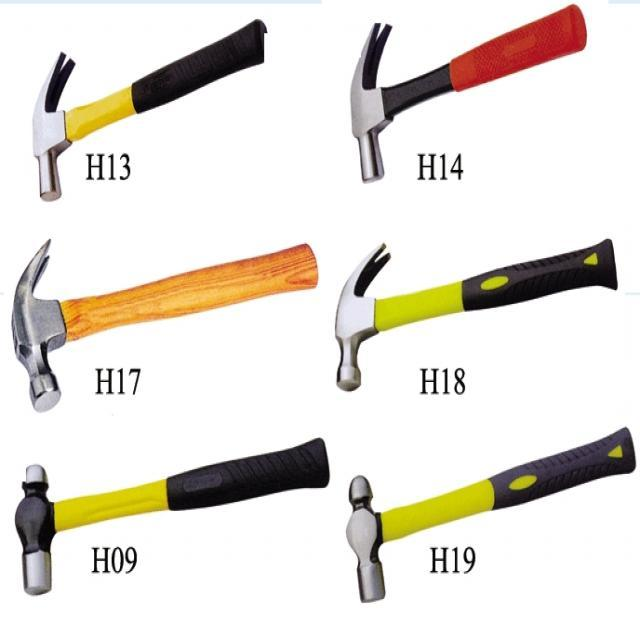hammer: (0, 420, 328, 616), (0, 223, 324, 420), (338, 424, 640, 620), (0, 11, 277, 222), (335, 0, 607, 195), (326, 235, 636, 394)
